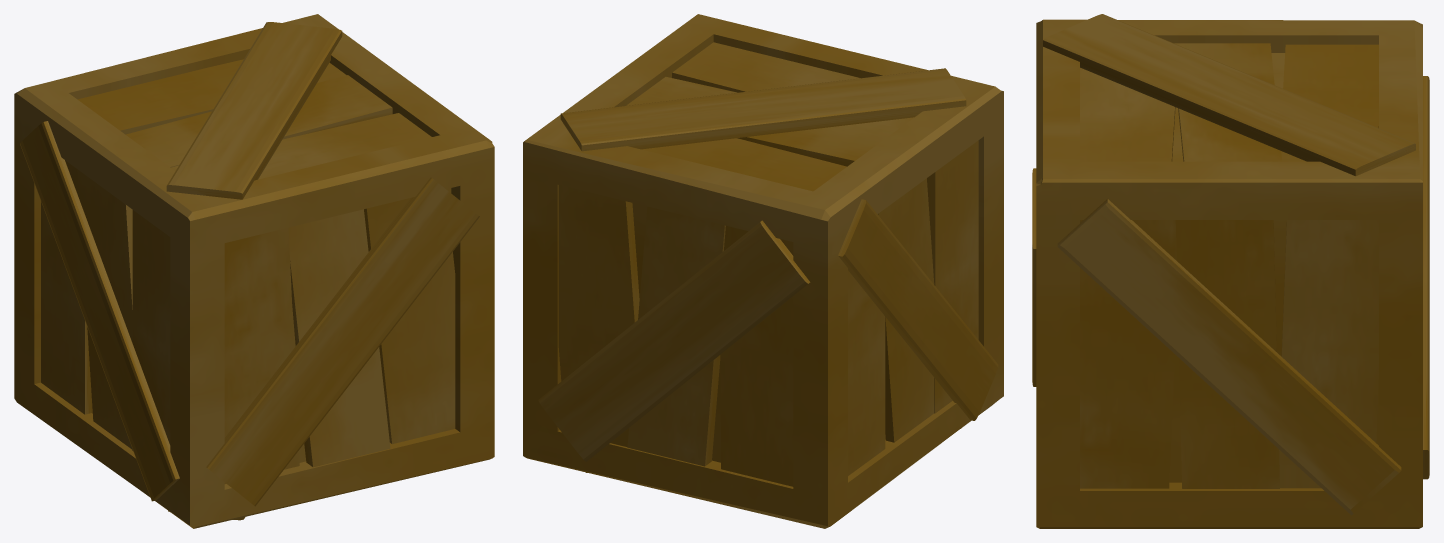
The picture shows the model from 3 angles, left to right: view 1: azimuth 30°, elevation 25°; view 2: azimuth 150°, elevation 25°; view 3: azimuth 270°, elevation 25°; orthographic projection. The views are drawn at different scales.
Visible parts, largest first — view 1: Tables.001; view 2: Tables.001; view 3: Tables.001.
Boxes of the visible parts, left/top/right/bottom form: Tables.001: left=14, top=14, right=494, bottom=528; Tables.001: left=523, top=14, right=1003, bottom=528; Tables.001: left=1032, top=14, right=1429, bottom=528.
Bounding box in the file's own units: 208 × 207 × 206.
